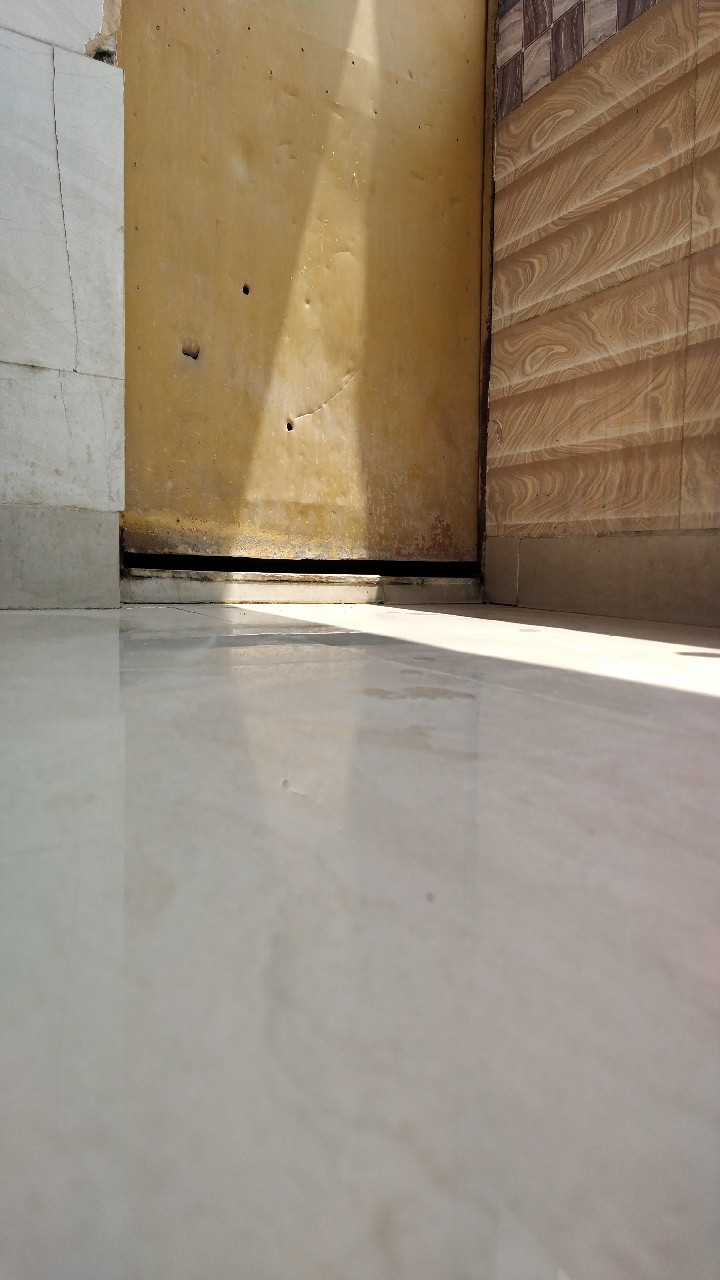Doors: (116, 134, 508, 638)
